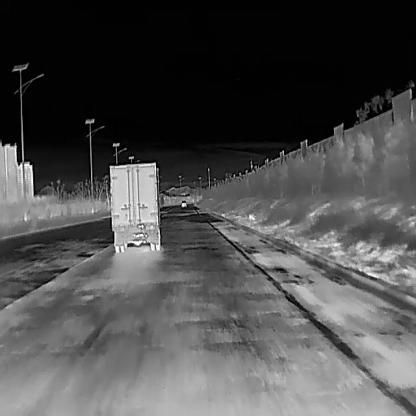car: (180, 199, 187, 206)
truck: (108, 161, 163, 251)
